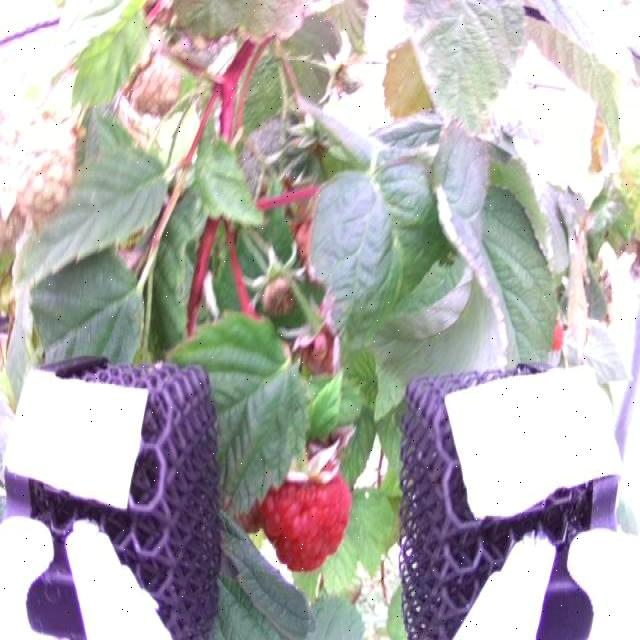Riped berries: (257, 463, 354, 573)
